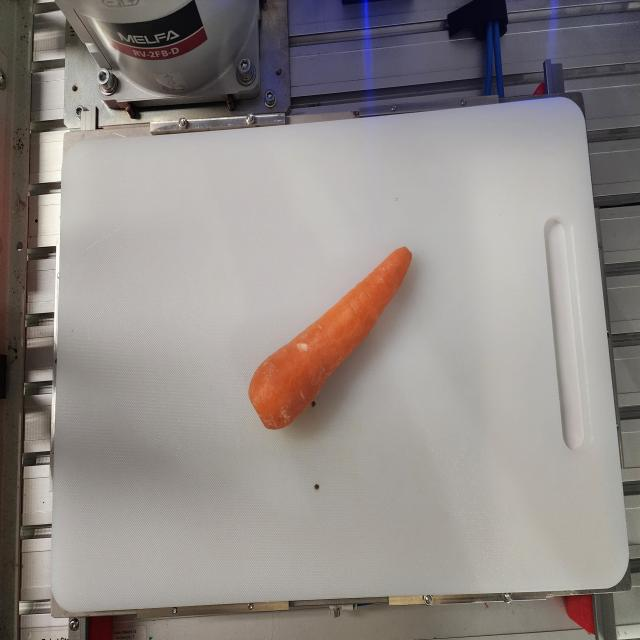carrot: (248, 245, 412, 430)
